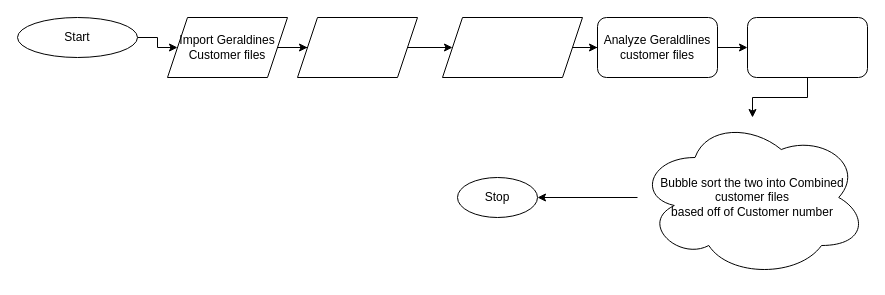
The diagram is 885 pixels wide and 295 high, and some of its shapes have lost their labels. Each missing label, with the centre of its shape:
Analyze Geralds customer files: the point at 807,47
Create Combined customer files: the point at 512,47
Import Gerads customer files: the point at 357,47
